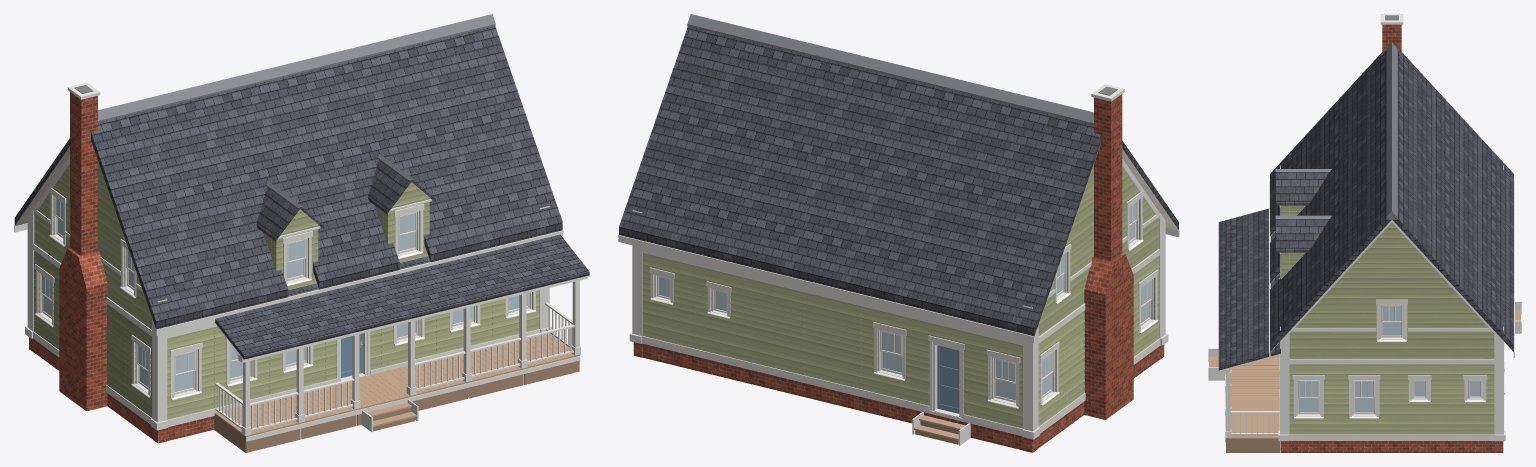
File: building_assembled.glb
3 views of the same model, side by side, from view 1: azimuth 30°, elevation 25°; view 2: azimuth 150°, elevation 25°; view 3: azimuth 270°, elevation 25° (orthographic). The views are drawn at different scales.
Parts seen in each view (by area): view 1: building_shingles, building_trim, building_siding, building_brick, building_deck, building_ridge, building_lattice, building_glass, building_sash, building_frame, building_plaster, building_door; view 2: building_shingles, building_siding, building_trim, building_brick, building_ridge, building_glass, building_frame, building_sash, building_door, building_plaster, building_deck; view 3: building_shingles, building_siding, building_trim, building_deck, building_brick, building_ridge, building_glass, building_lattice, building_sash, building_frame, building_plaster.
Boxes of the visible parts, x1=… form: building_shingles: x1=14, y1=26, x2=589, y2=359; building_trim: x1=14, y1=82, x2=589, y2=441; building_siding: x1=34, y1=161, x2=539, y2=419; building_brick: x1=29, y1=92, x2=214, y2=443; building_deck: x1=214, y1=333, x2=580, y2=437; building_ridge: x1=98, y1=14, x2=495, y2=207; building_lattice: x1=214, y1=334, x2=579, y2=452; building_glass: x1=42, y1=198, x2=527, y2=391; building_sash: x1=41, y1=197, x2=529, y2=394; building_frame: x1=39, y1=196, x2=531, y2=395; building_plaster: x1=15, y1=140, x2=430, y2=329; building_door: x1=341, y1=333, x2=362, y2=377; building_shingles: x1=619, y1=26, x2=1178, y2=336; building_siding: x1=642, y1=164, x2=1159, y2=428; building_trim: x1=618, y1=84, x2=1179, y2=445; building_brick: x1=633, y1=94, x2=1164, y2=452; building_ridge: x1=687, y1=14, x2=1093, y2=124; building_glass: x1=658, y1=203, x2=1150, y2=400; building_frame: x1=654, y1=200, x2=1153, y2=416; building_sash: x1=657, y1=201, x2=1152, y2=402; building_door: x1=937, y1=345, x2=959, y2=413; building_plaster: x1=1034, y1=143, x2=1178, y2=335; building_deck: x1=914, y1=415, x2=965, y2=440; building_shingles: x1=1218, y1=50, x2=1513, y2=370; building_siding: x1=1281, y1=205, x2=1494, y2=434; building_trim: x1=1208, y1=14, x2=1521, y2=442; building_deck: x1=1209, y1=309, x2=1520, y2=438; building_brick: x1=1280, y1=24, x2=1503, y2=452; building_ridge: x1=1275, y1=42, x2=1397, y2=219; building_glass: x1=1299, y1=306, x2=1480, y2=412; building_lattice: x1=1226, y1=365, x2=1280, y2=452; building_sash: x1=1298, y1=305, x2=1482, y2=414; building_frame: x1=1296, y1=304, x2=1483, y2=415; building_plaster: x1=1270, y1=206, x2=1513, y2=352.
Size of the model in its own units: 15.07 by 10.62 by 11.29.
Materials: 17 (4 with a texture image).
